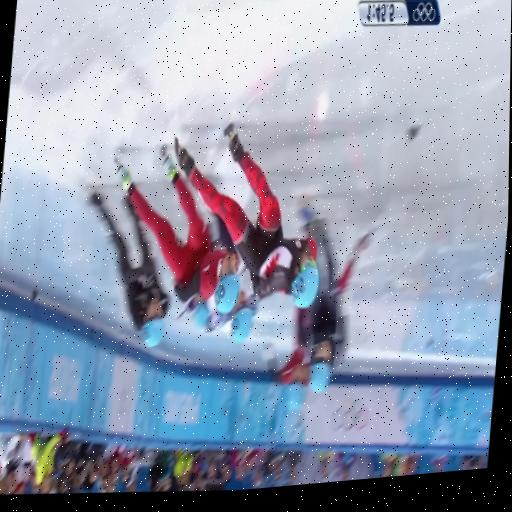Skater: (175, 123, 319, 307), (116, 160, 239, 312), (298, 205, 371, 391), (88, 191, 169, 345), (188, 256, 257, 341), (263, 306, 310, 409)
